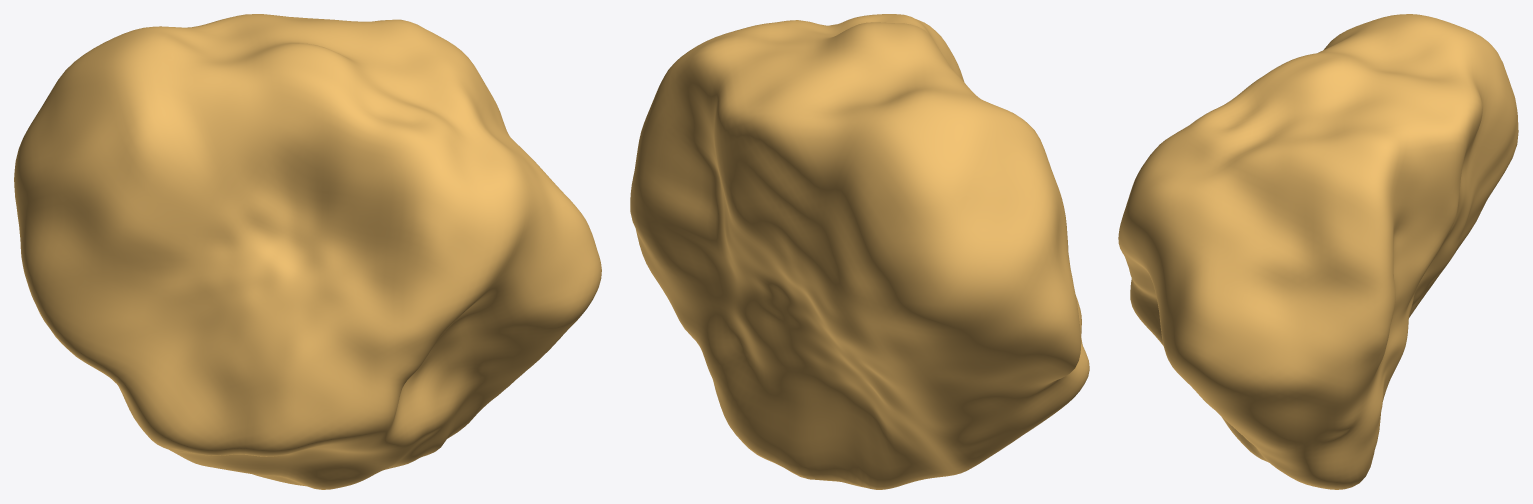
The model's file is nugget-09.glb.
The picture shows the model from 3 angles, left to right: view 1: azimuth 30°, elevation 25°; view 2: azimuth 150°, elevation 25°; view 3: azimuth 270°, elevation 25°; orthographic projection. The views are drawn at different scales.
Visible parts, largest first — view 1: nugget-09; view 2: nugget-09; view 3: nugget-09.
Boxes of the visible parts, <box> form: nugget-09: <box>14,14,601,489</box>; nugget-09: <box>630,14,1089,489</box>; nugget-09: <box>1118,14,1518,489</box>.
Bounding box in the file's own units: 3.7 × 3.3 × 3.05.
